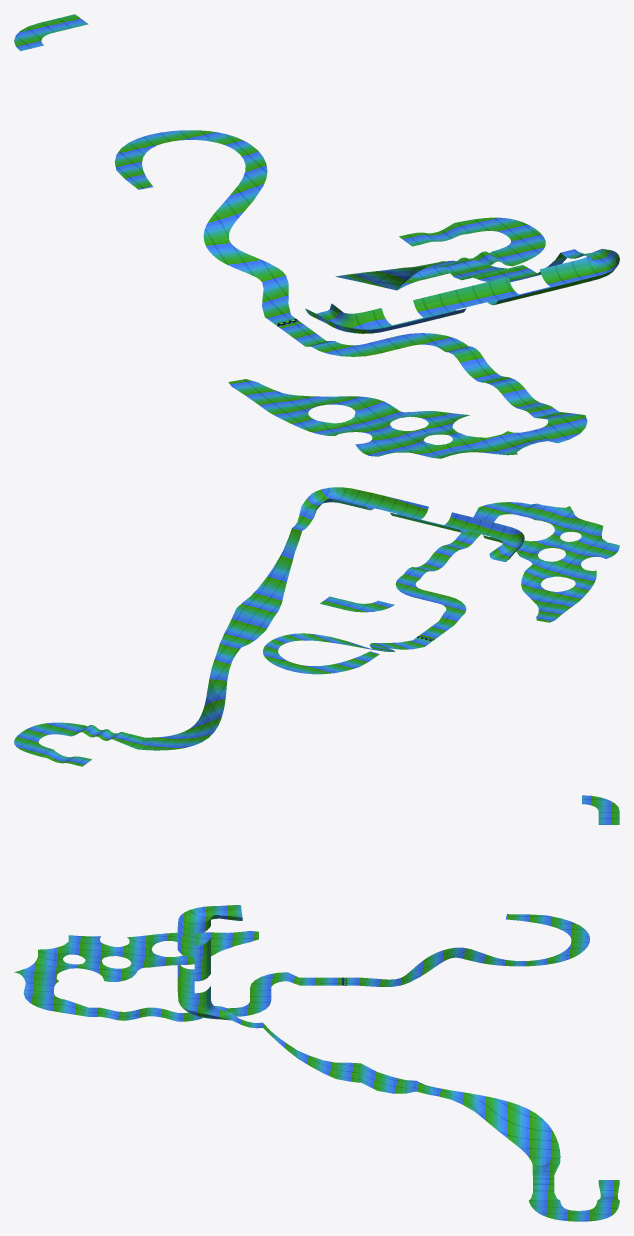
3 renders of one model, top to bottom at view 1: azimuth 30°, elevation 25°; view 2: azimuth 150°, elevation 25°; view 3: azimuth 270°, elevation 25°, orthographic. The views are drawn at different scales.
Visible parts, largest first — view 1: course-SKP--Road.003; view 2: course-SKP--Road.003; view 3: course-SKP--Road.003.
Part boxes in pixels (box(x1,y1,x2,y2)): course-SKP--Road.003: box(14, 14, 619, 458); course-SKP--Road.003: box(14, 487, 619, 766); course-SKP--Road.003: box(14, 795, 619, 1221).
Bounding box in the file's own units: 83156 × 46906 × 109288.
Materials: 2 (2 with a texture image).
